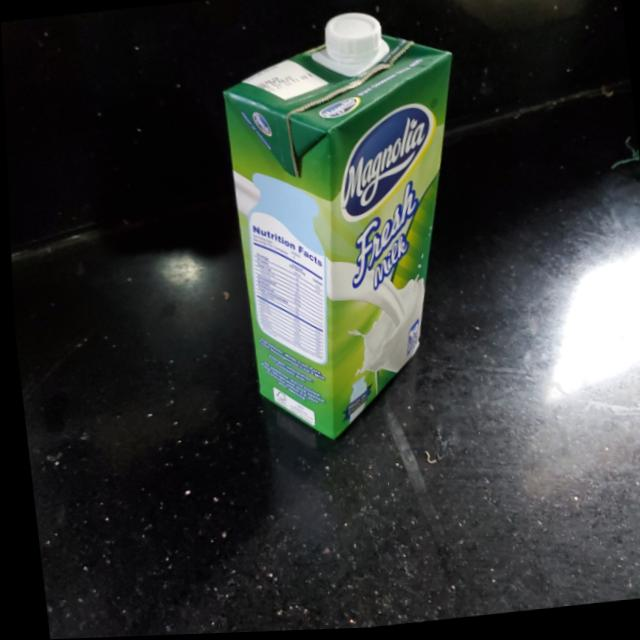milk: (211, 0, 486, 446)
